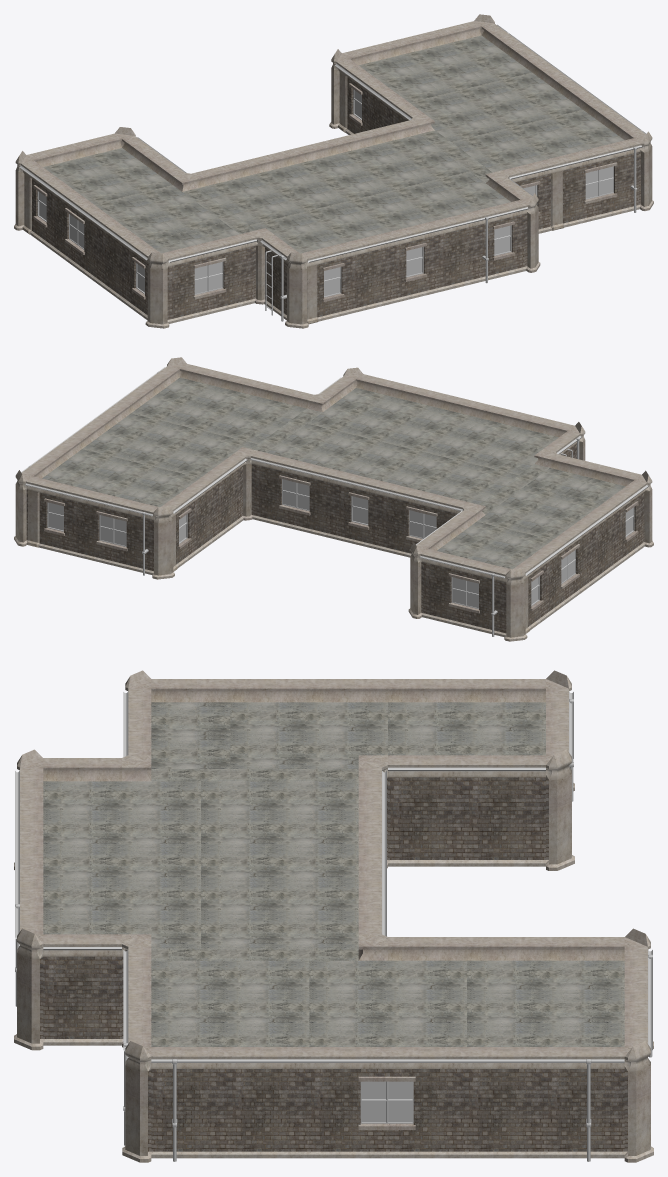
File: build10_el4.fbx
The picture shows the model from 3 angles, top to bottom: view 1: azimuth 30°, elevation 25°; view 2: azimuth 150°, elevation 25°; view 3: azimuth 270°, elevation 25°; orthographic projection. The views are drawn at different scales.
Visible parts, largest first — view 1: polySurface43; view 2: polySurface43; view 3: polySurface43.
Part boxes in pixels (x1,y1,x2,y2): polySurface43: [14, 14, 653, 328]; polySurface43: [14, 357, 653, 641]; polySurface43: [14, 670, 653, 1162].
Size of the model in its own units: 23.79 by 3.27 by 16.81.
